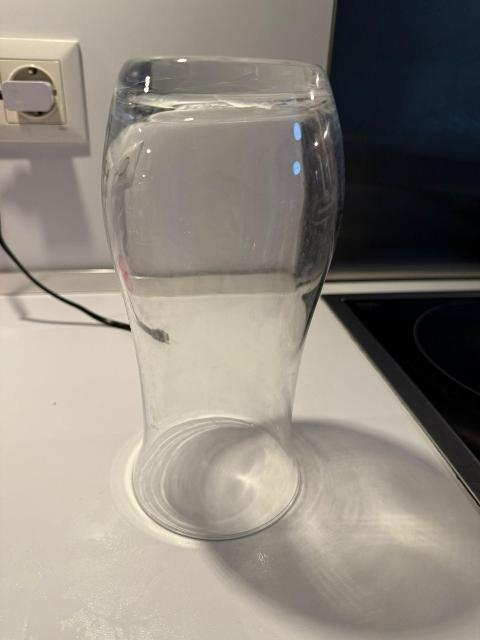Cam: (99, 49, 349, 540)
